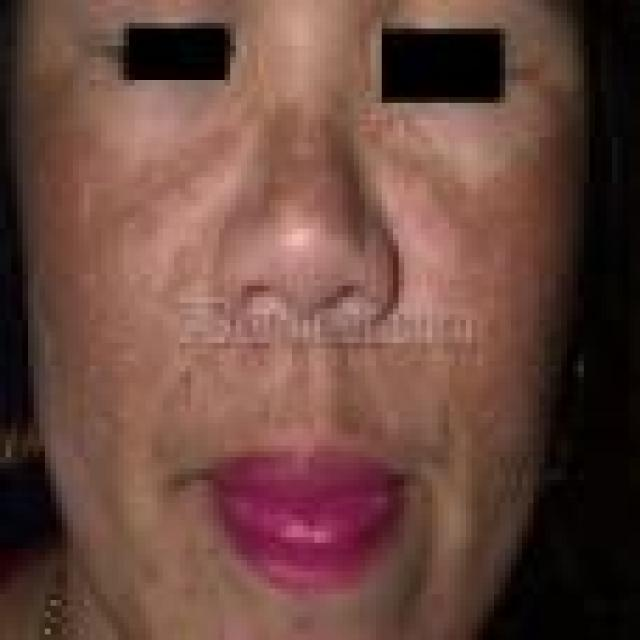Melasma: (358, 76, 582, 565), (23, 88, 227, 493)
